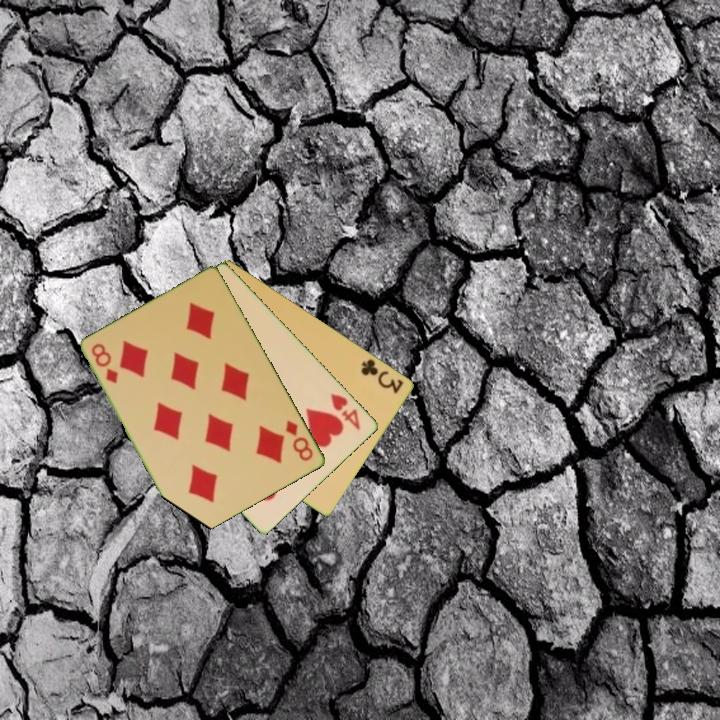3c: (358, 355, 406, 396)
4h: (327, 390, 364, 433)
8d: (282, 416, 316, 464), (88, 340, 122, 387)
